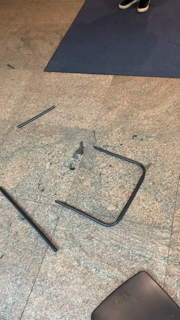C pipe: (54, 144, 148, 230)
